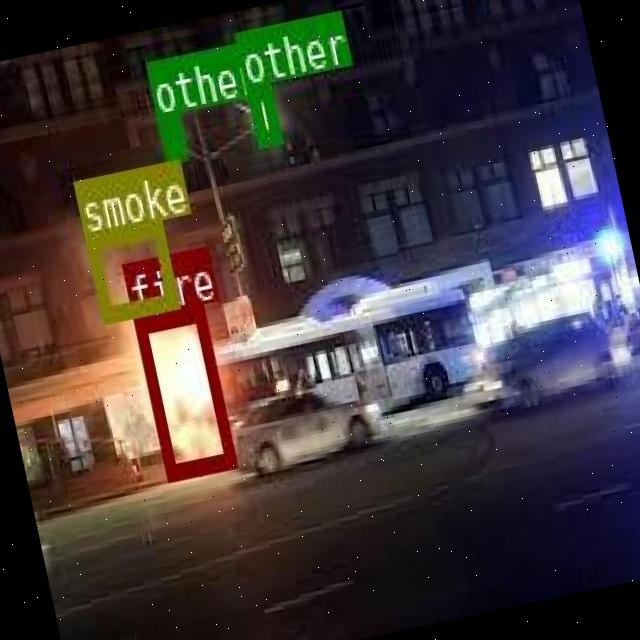fire: (131, 302, 233, 476)
smoke: (85, 220, 176, 320)
